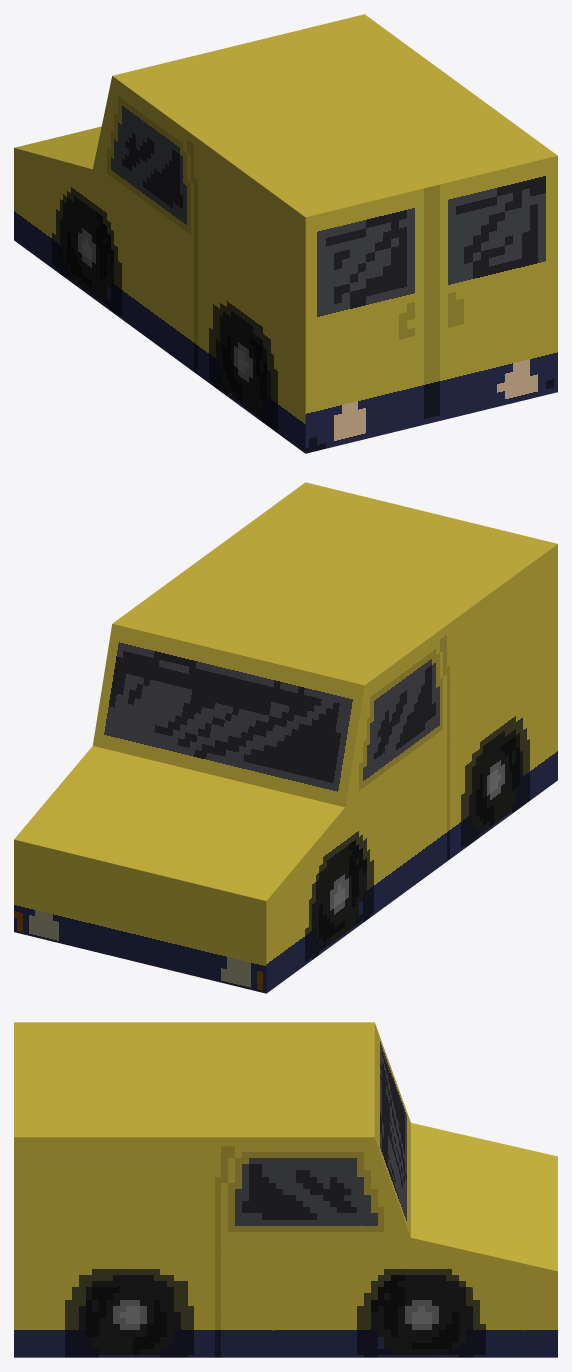
File: camionnatte.glb
3 views of the same model, one above another, from view 1: azimuth 30°, elevation 25°; view 2: azimuth 150°, elevation 25°; view 3: azimuth 270°, elevation 25° (orthographic). The views are drawn at different scales.
Parts seen in each view (by area): view 1: Cube; view 2: Cube; view 3: Cube.
Part boxes in pixels (x1,y1,x2,y2): Cube: (14,14,557,453); Cube: (14,482,557,993); Cube: (14,1022,557,1357).
Bounding box in the file's own units: 1.5 × 1.34 × 3.
1 material, 1 textured.
